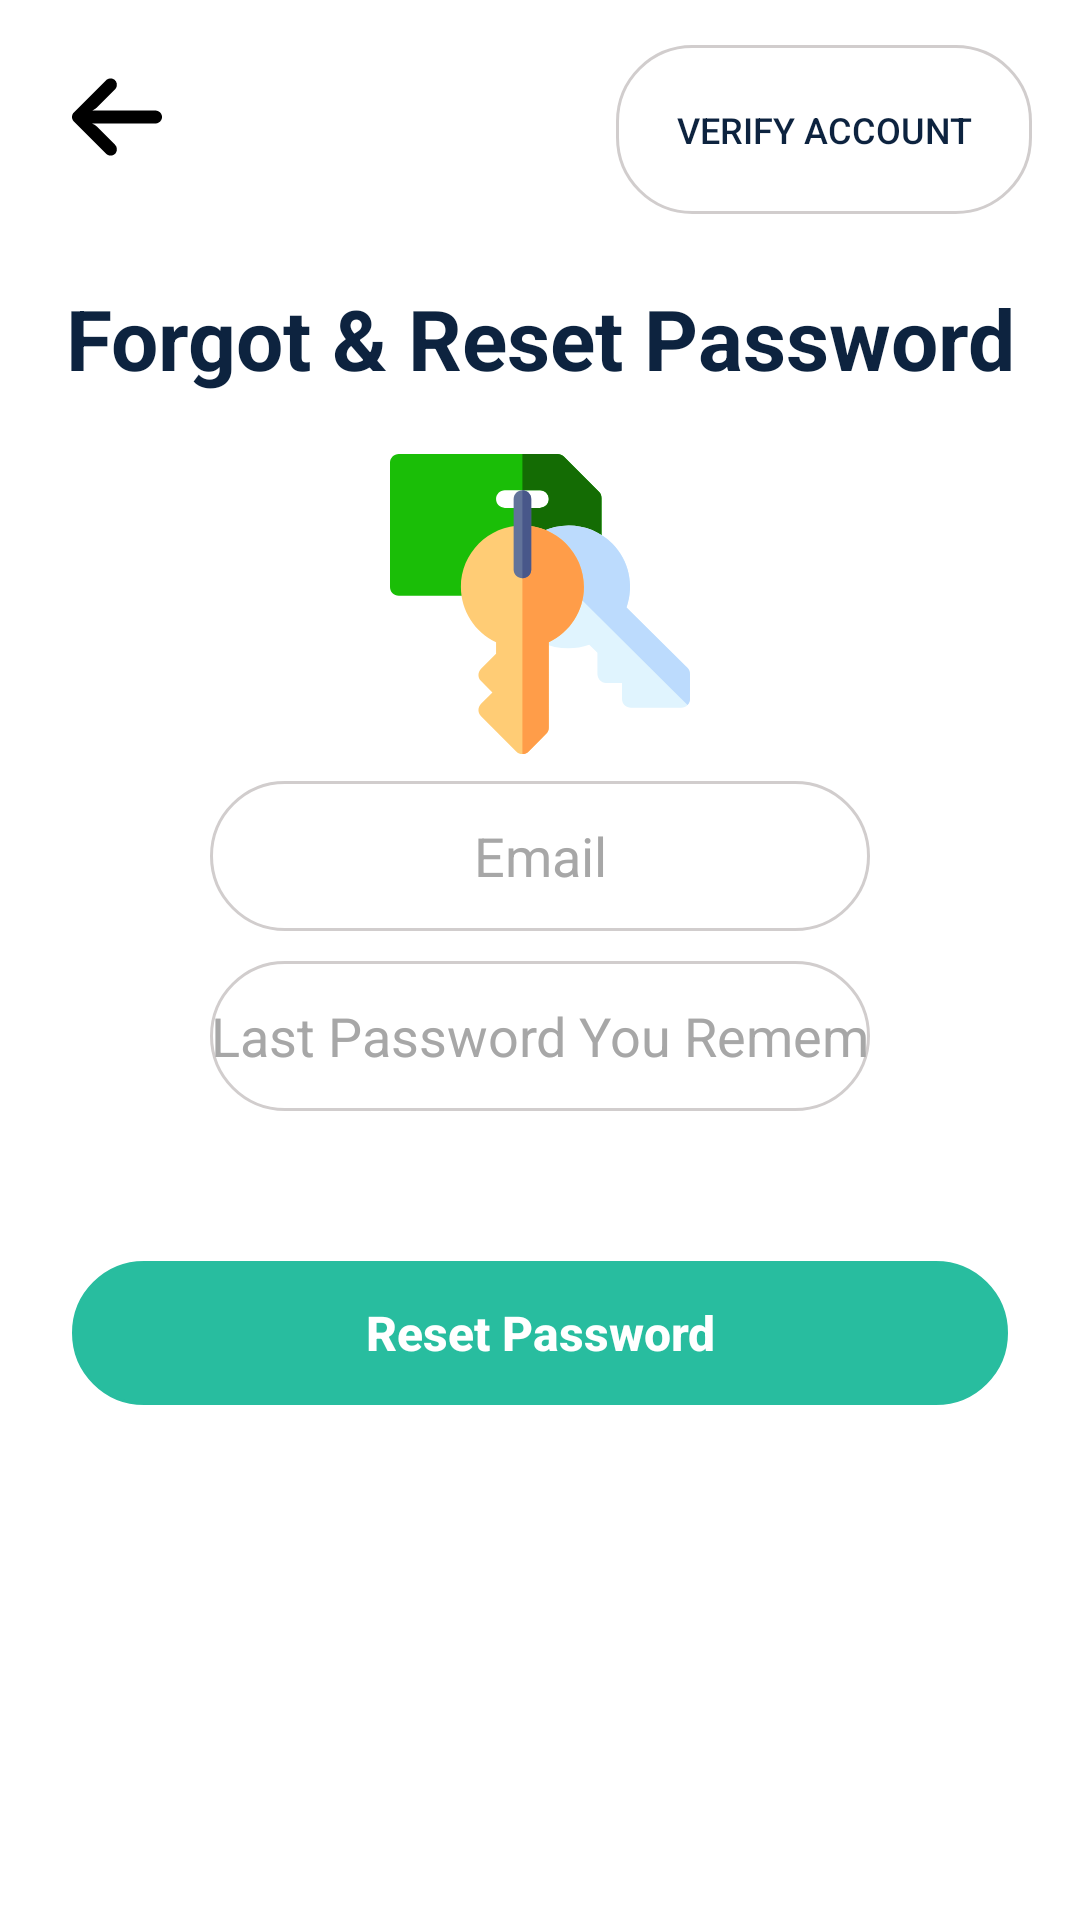

Screen size 1080 x 1920. Icon name, then its box in pixels as bbox(x1, y1, x2, y2):
arrow: bbox(72, 78, 162, 156)
keys: bbox(390, 454, 690, 754)
